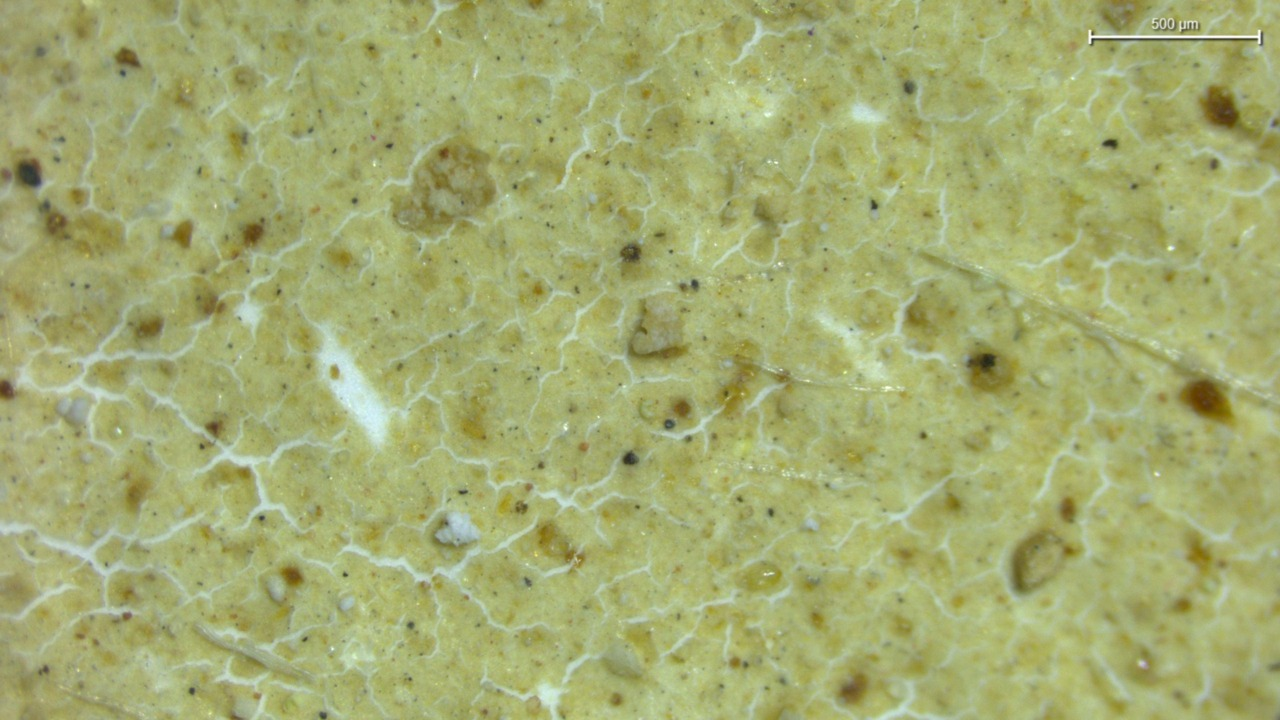microplastic_fragment: (1012, 526, 1075, 595), (629, 294, 684, 355), (435, 512, 480, 547)
